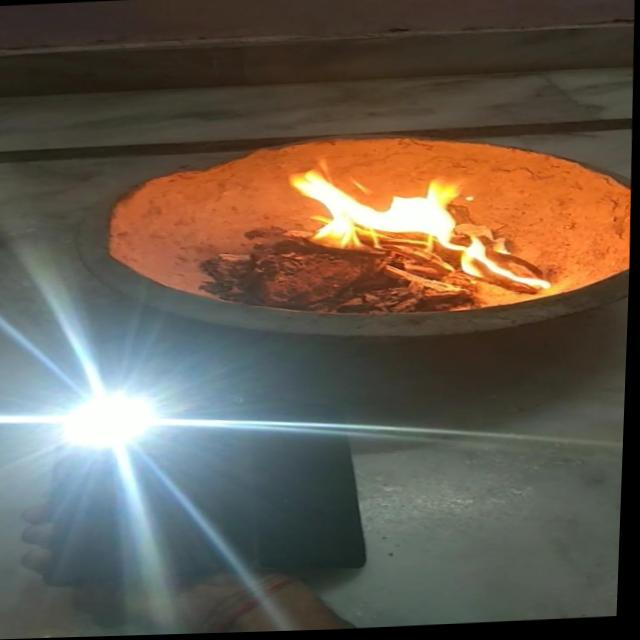fire: (273, 148, 564, 312)
